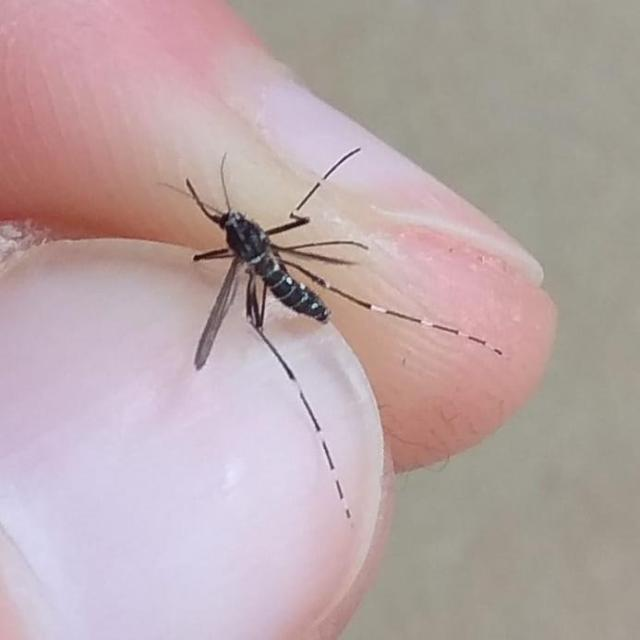albopictus: (150, 146, 498, 534)
